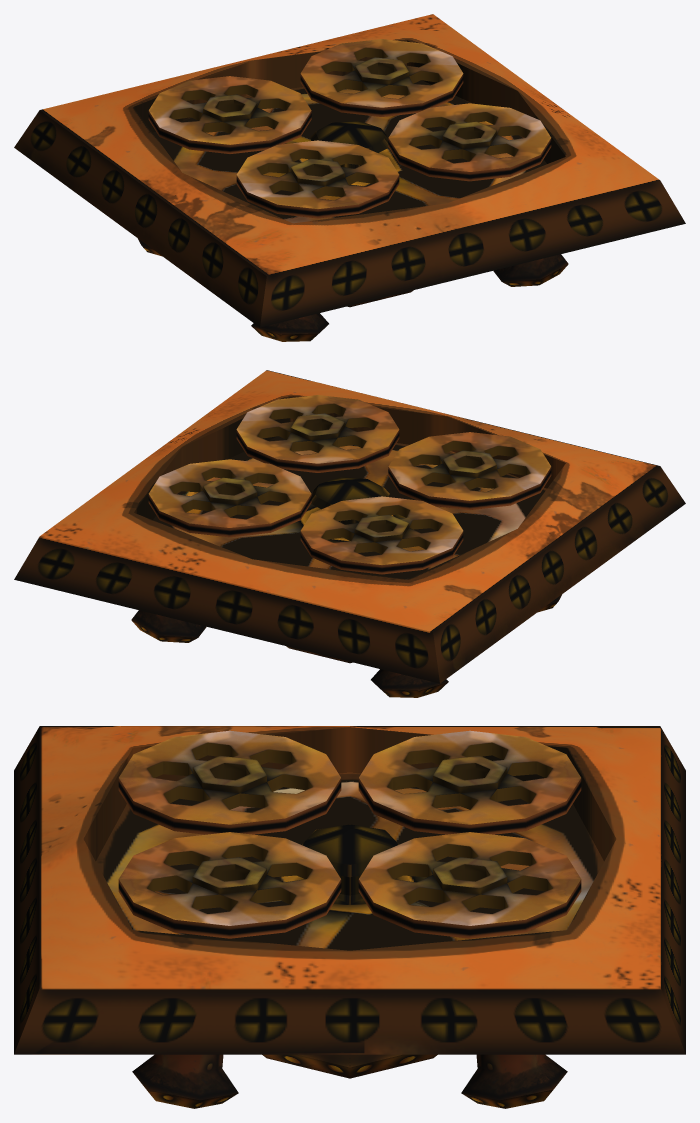
The model's file is MESH_LD9_Platform.fbx.
The picture shows the model from 3 angles, top to bottom: view 1: azimuth 30°, elevation 25°; view 2: azimuth 150°, elevation 25°; view 3: azimuth 270°, elevation 25°; orthographic projection. The views are drawn at different scales.
Visible parts, largest first — view 1: plateforme1, rouages, reacteurs; view 2: plateforme1, rouages, reacteurs; view 3: plateforme1, rouages, reacteurs.
Boxes of the visible parts, <box> form: plateforme1: <box>14,14,685,327</box>; rouages: <box>148,39,551,218</box>; reacteurs: <box>138,238,568,341</box>; plateforme1: <box>14,370,685,683</box>; rouages: <box>148,395,551,574</box>; reacteurs: <box>131,594,561,697</box>; plateforme1: <box>14,726,685,1054</box>; rouages: <box>118,730,581,938</box>; reacteurs: <box>132,1054,567,1108</box>.
Size of the model in its own units: 6.91 by 2.45 by 6.91.
Materials: 2 (2 with a texture image).
